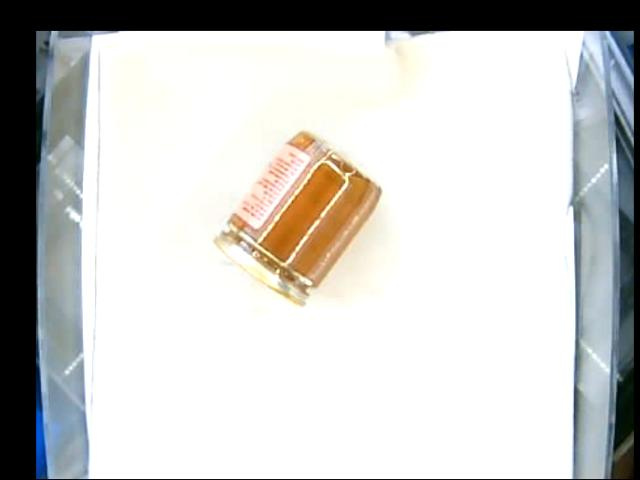Bottle: (211, 131, 380, 308)
